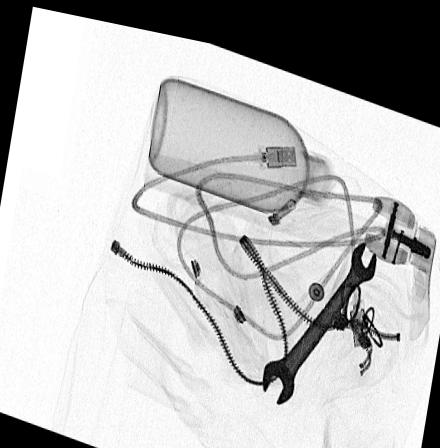Wrench: (261, 224, 376, 392)
